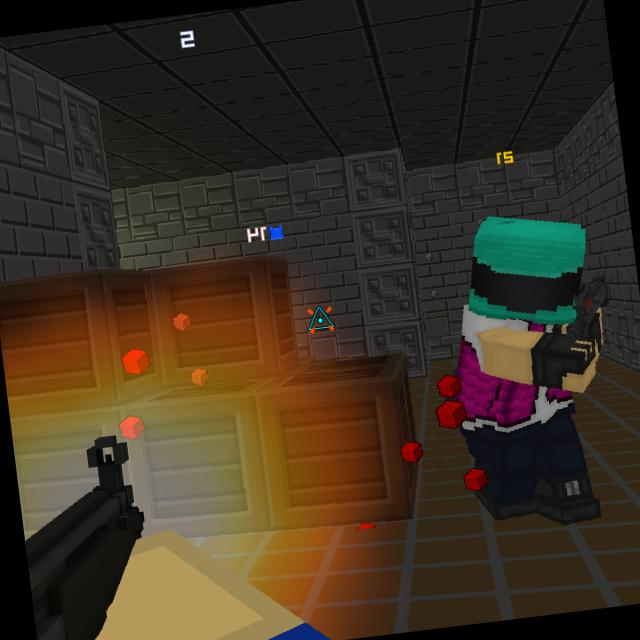enemy: (423, 188, 640, 541)
